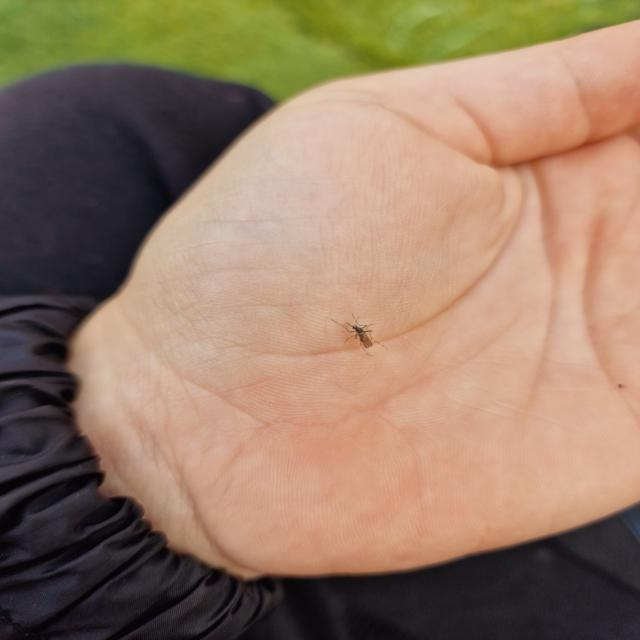albopictus: (326, 308, 388, 356)
